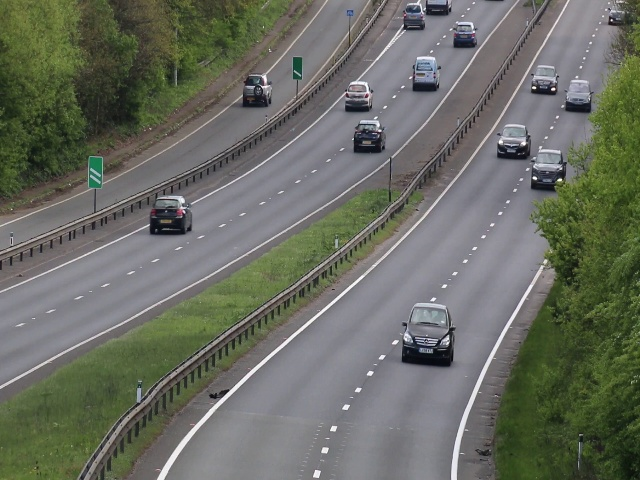car: (401, 302, 455, 367), (147, 195, 192, 235), (529, 147, 564, 191), (495, 123, 532, 159), (353, 117, 387, 154), (411, 53, 442, 92), (563, 75, 593, 113), (529, 61, 559, 98), (242, 72, 272, 107), (344, 79, 373, 110), (400, 1, 428, 30), (452, 20, 478, 48), (606, 1, 621, 25)
